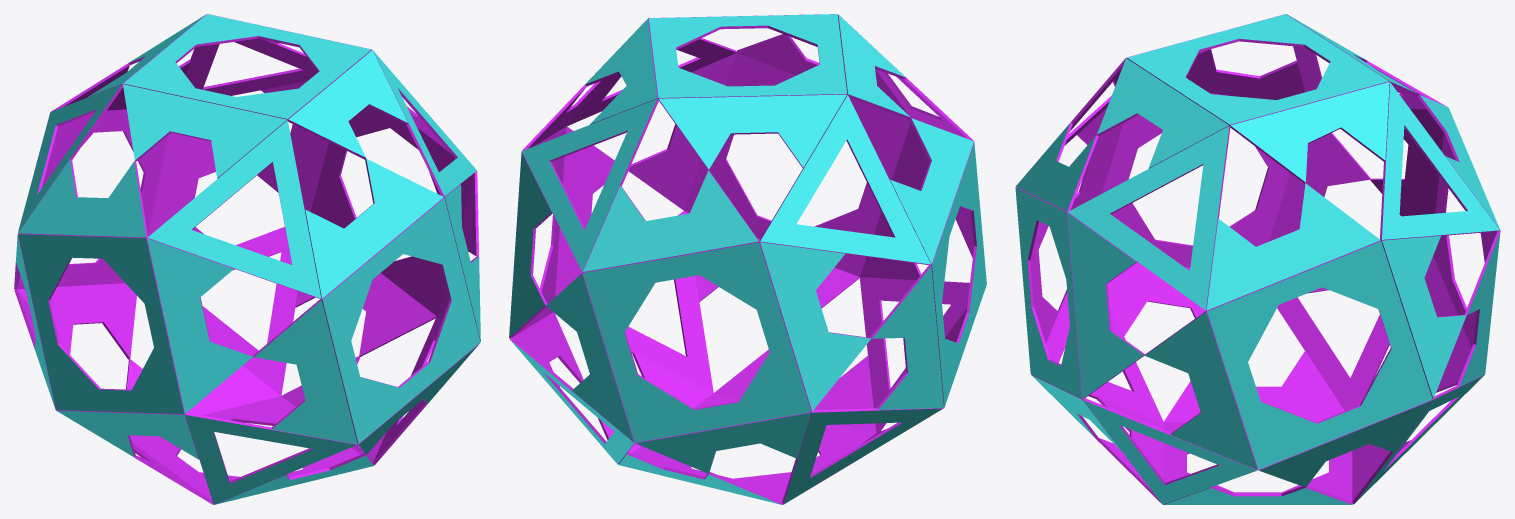
Rendered from SnubCubeS.glb.
3 views of the same model, side by side, from view 1: azimuth 30°, elevation 25°; view 2: azimuth 150°, elevation 25°; view 3: azimuth 270°, elevation 25° (orthographic). The views are drawn at different scales.
Parts seen in each view (by area): view 1: root; view 2: root; view 3: root.
Boxes of the visible parts, box(x1,y1,x2,y2) form: root: box(14, 14, 480, 504); root: box(509, 14, 986, 504); root: box(1015, 14, 1500, 504).
Bounding box in the file's own units: 8.44 × 7.59 × 8.44.
